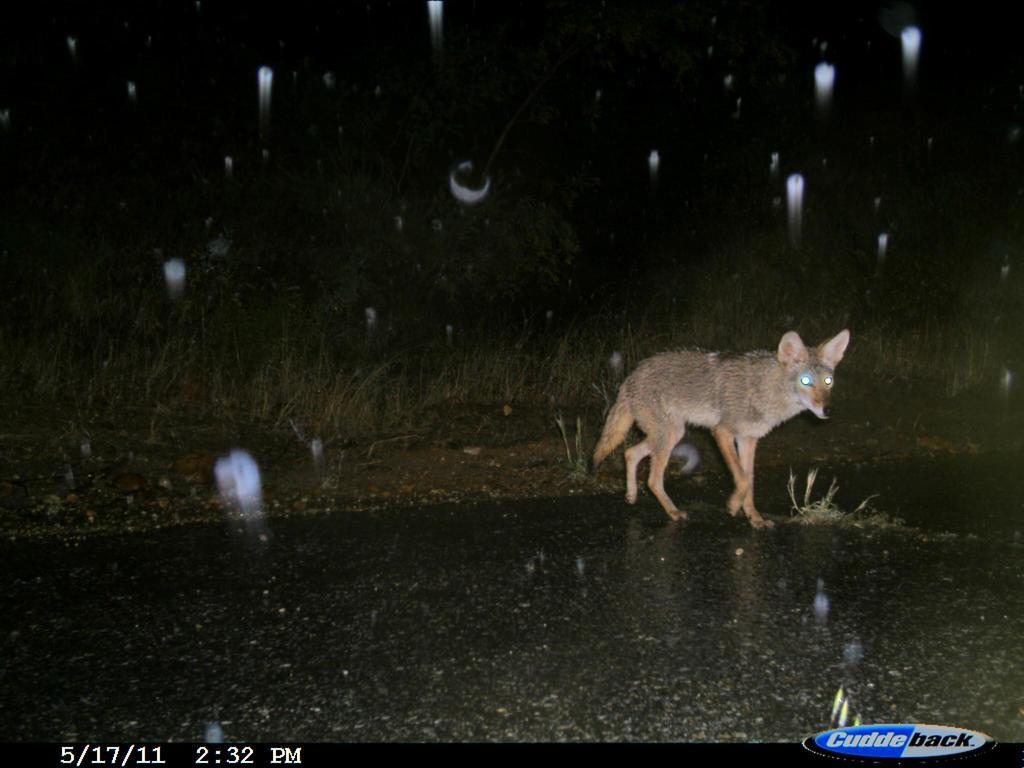coyote: (582, 318, 859, 537)
